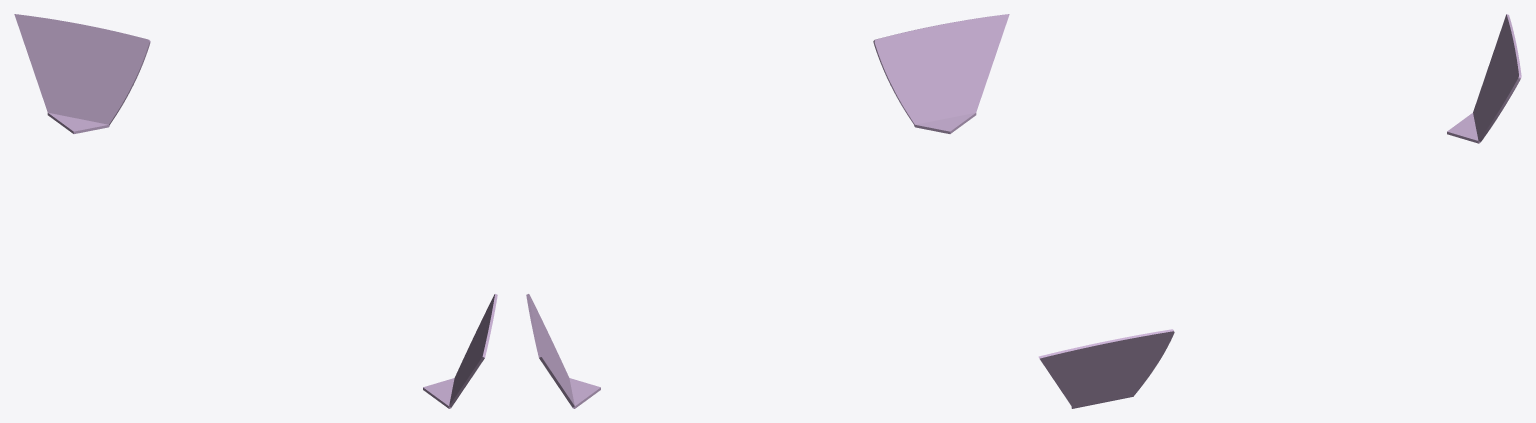
File: OUTFITTING_INTERIOR___ugly corner_ options__small corner box.glb
3 views of the same model, side by side, from view 1: azimuth 30°, elevation 25°; view 2: azimuth 150°, elevation 25°; view 3: azimuth 330°, elevation 25° (orthographic).
Visible parts, largest first — view 1: small corner box; view 2: small corner box; view 3: small corner box.
Part boxes in pixels (bbox=[...]): small corner box: bbox=[14, 14, 497, 408]; small corner box: bbox=[526, 14, 1009, 408]; small corner box: bbox=[1038, 14, 1521, 408].
Bounding box in the file's own units: 0.3877 × 0.3884 × 4.18.
